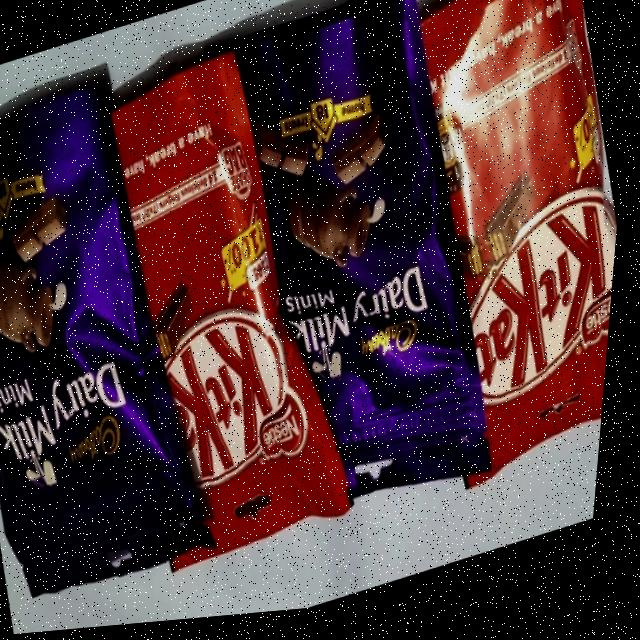kitkat: (52, 34, 399, 589), (346, 0, 640, 515)
